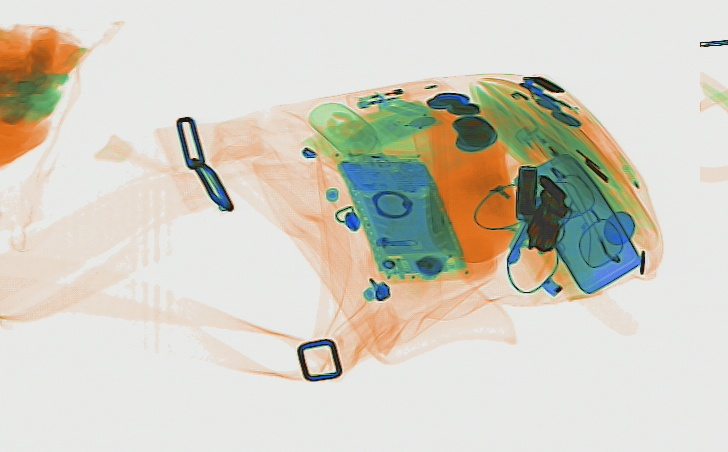lighter: (514, 115, 595, 196), (336, 67, 469, 115)
